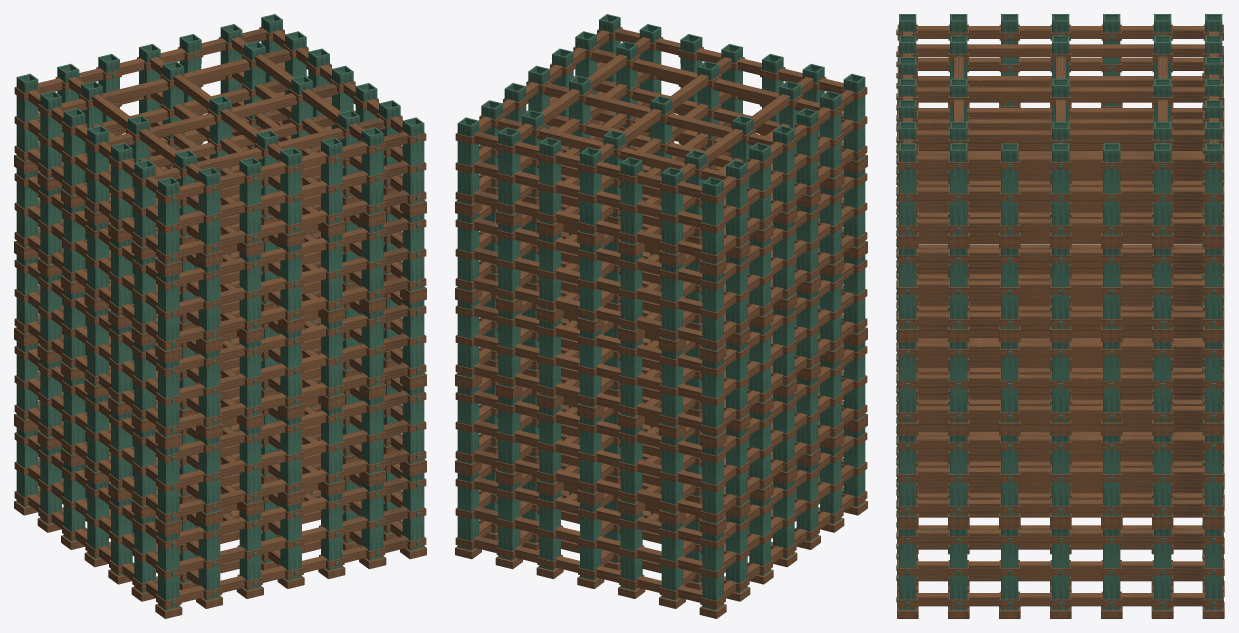
3 views of the same model, side by side, from view 1: azimuth 30°, elevation 25°; view 2: azimuth 150°, elevation 25°; view 3: azimuth 270°, elevation 25° (orthographic). The views are drawn at different scales.
Visible parts, largest first — view 1: Tier 4 internal tie 0-0.56-0-0.84, Tier 4 internal tie 0-0-0-0.84, Tier 4 tie 0-0-0.16, Tier 3 tie 0-0-0.5, Tier 4 tie 0-0-0.84, Tier 2 tie 0-0-0.16, Tier 4 internal tie 0--0.56-0-0.84, Tier 1 tie 0-0-0.5, Tier 0 tie 0-0-0.16, Tier 2 tie 0-0-0.84, Tier 0 tie 0-0-0.5, Tier 0 tie 0-0-0.84 (+116 smaller); view 2: Tier 4 internal tie 0--0.56-0-0.84, Tier 4 internal tie 0-0-0-0.84, Tier 4 tie 2-0-0.16, Tier 3 tie 2-0-0.5, Tier 4 tie 2-0-0.84, Tier 2 tie 2-0-0.16, Tier 4 internal tie 0-0.56-0-0.84, Tier 1 tie 2-0-0.5, Tier 0 tie 2-0-0.16, Tier 2 tie 2-0-0.84, Tier 0 tie 2-0-0.5, Tier 0 tie 2-0-0.84 (+116 smaller); view 3: Tier 4 internal tie 1--0.56-0-0.84, Tier 4 internal tie 1-0-0-0.84, Tier 4 internal tie 1-0.56-0-0.84, Tier 4 internal tie 1--0.56-0-0.5, Tier 4 internal tie 1-0-0-0.5, Tier 4 internal tie 1--0.56-0-0.16, Tier 0 tie 1-0-0.5, Tier 0 tie 1-0-0.84, Tier 1 tie 1-0-0.16, Tier 1 tie 1-0-0.5, Tier 2 tie 1-0-0.84, Tier 3 tie 1-0-0.16 (+97 smaller).
Boxes of the visible parts, x1,y1,x2,y2 form: Tier 4 internal tie 0-0.56-0-0.84: (62, 49, 290, 110); Tier 4 internal tie 0-0-0-0.84: (109, 83, 338, 145); Tier 4 tie 0-0-0.16: (179, 190, 408, 256); Tier 3 tie 0-0-0.5: (179, 247, 408, 313); Tier 4 tie 0-0-0.84: (179, 131, 408, 198); Tier 2 tie 0-0-0.16: (179, 363, 408, 429); Tier 4 internal tie 0--0.56-0-0.84: (156, 118, 385, 179); Tier 1 tie 0-0-0.5: (179, 420, 408, 486); Tier 0 tie 0-0-0.16: (179, 536, 408, 602); Tier 2 tie 0-0-0.84: (179, 304, 408, 371); Tier 0 tie 0-0-0.5: (179, 506, 408, 573); Tier 0 tie 0-0-0.84: (179, 477, 408, 543); Tier 4 internal tie 0--0.56-0-0.84: (591, 49, 819, 110); Tier 4 internal tie 0-0-0-0.84: (543, 83, 772, 145); Tier 4 tie 2-0-0.16: (473, 190, 702, 256); Tier 3 tie 2-0-0.5: (473, 247, 702, 313); Tier 4 tie 2-0-0.84: (473, 131, 702, 198); Tier 2 tie 2-0-0.16: (473, 363, 702, 429); Tier 4 internal tie 0-0.56-0-0.84: (496, 118, 725, 179); Tier 1 tie 2-0-0.5: (473, 420, 702, 486); Tier 0 tie 2-0-0.16: (473, 536, 702, 602); Tier 2 tie 2-0-0.84: (473, 304, 702, 371); Tier 0 tie 2-0-0.5: (473, 506, 702, 573); Tier 0 tie 2-0-0.84: (473, 477, 702, 543); Tier 4 internal tie 1--0.56-0-0.84: (916, 44, 1204, 57); Tier 4 internal tie 1-0-0-0.84: (916, 87, 1204, 100); Tier 4 internal tie 1-0.56-0-0.84: (916, 130, 1204, 143); Tier 4 internal tie 1--0.56-0-0.5: (916, 76, 1204, 87); Tier 4 internal tie 1-0-0-0.5: (916, 119, 1204, 130); Tier 4 internal tie 1--0.56-0-0.16: (918, 108, 1203, 119); Tier 0 tie 1-0-0.5: (916, 561, 1204, 574); Tier 0 tie 1-0-0.84: (916, 529, 1204, 542); Tier 1 tie 1-0-0.16: (916, 499, 1204, 512); Tier 1 tie 1-0-0.5: (916, 467, 1204, 480); Tier 2 tie 1-0-0.84: (916, 342, 1204, 355); Tier 3 tie 1-0-0.16: (916, 312, 1204, 325).
Size of the model in its own units: 1.8 by 2.83 by 1.8.
Materials: 2 (2 with a texture image).
